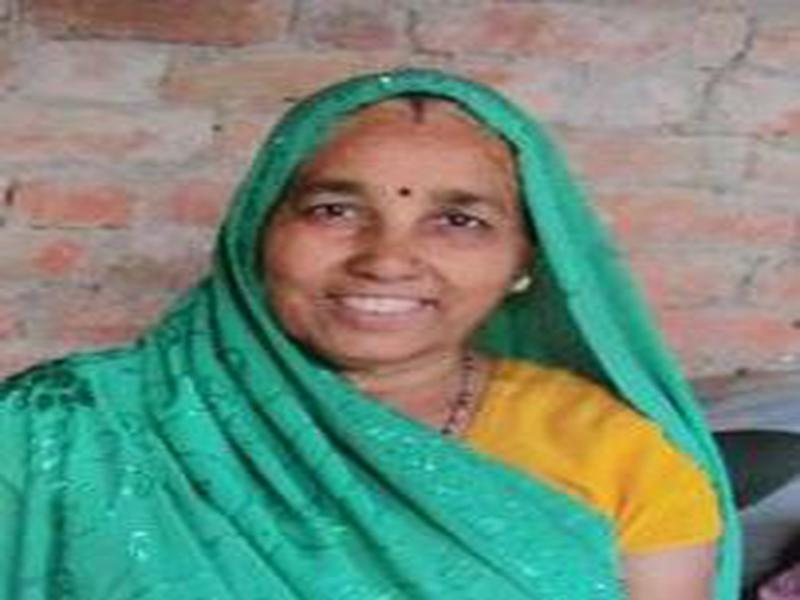without_mask: (274, 151, 514, 353)
